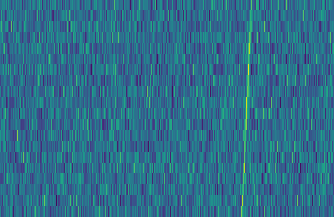signal: (238, 0, 257, 217)
